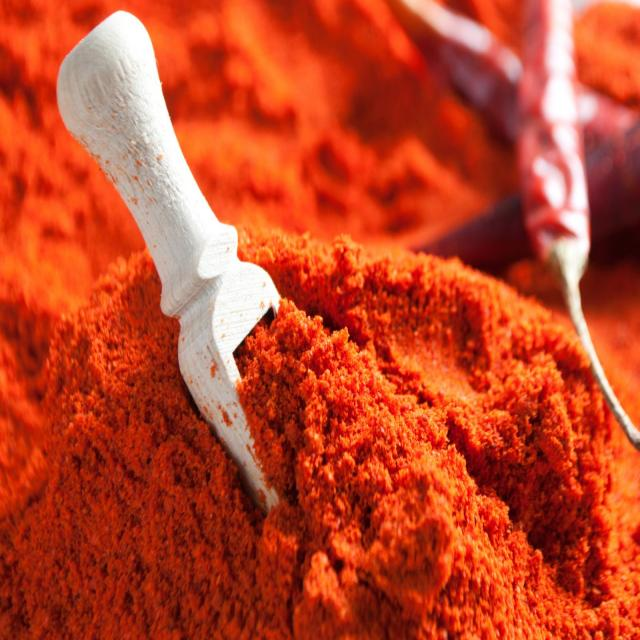Chilli Pepper: (506, 0, 640, 460)
Paprika: (158, 189, 478, 640), (386, 317, 598, 627), (7, 253, 177, 592)
